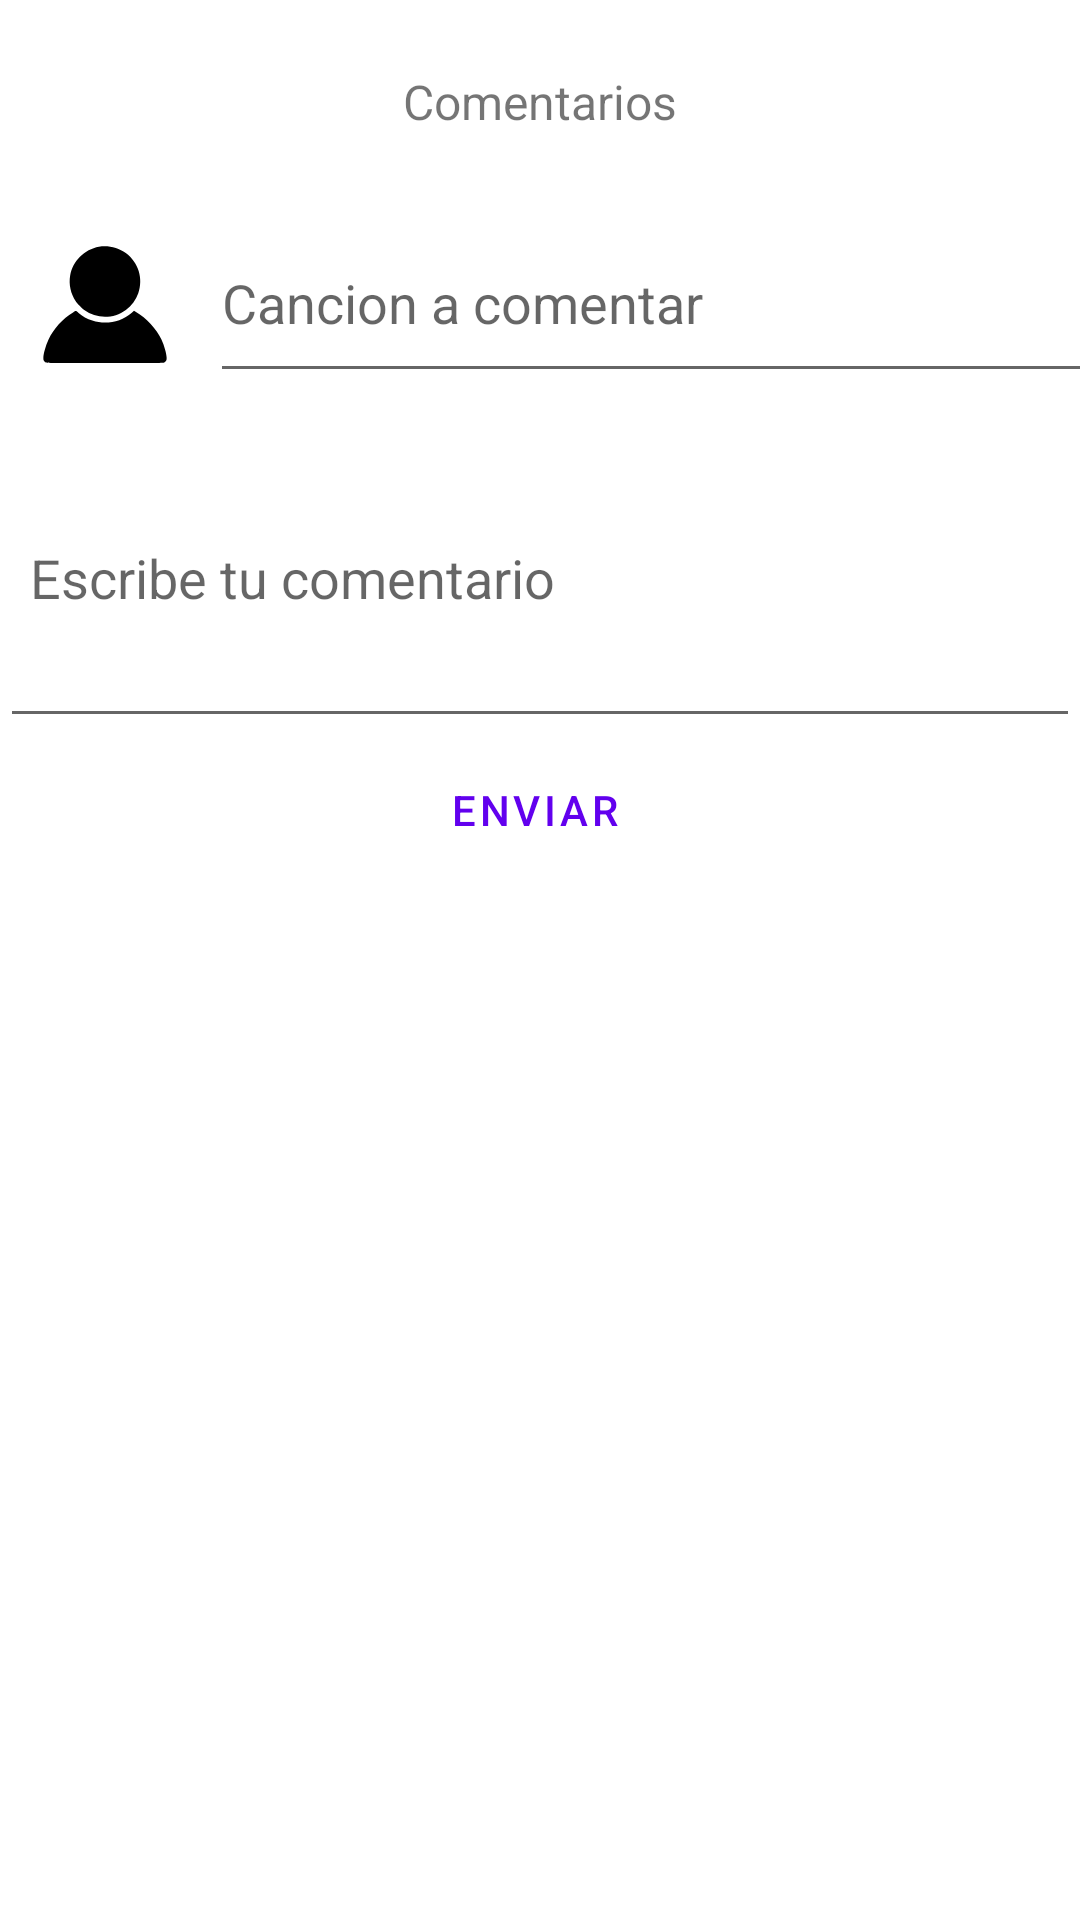

Screen size 1080px×1920px. Icon name, then its center in pixels as point (x, y):
profile: point (105, 304)
